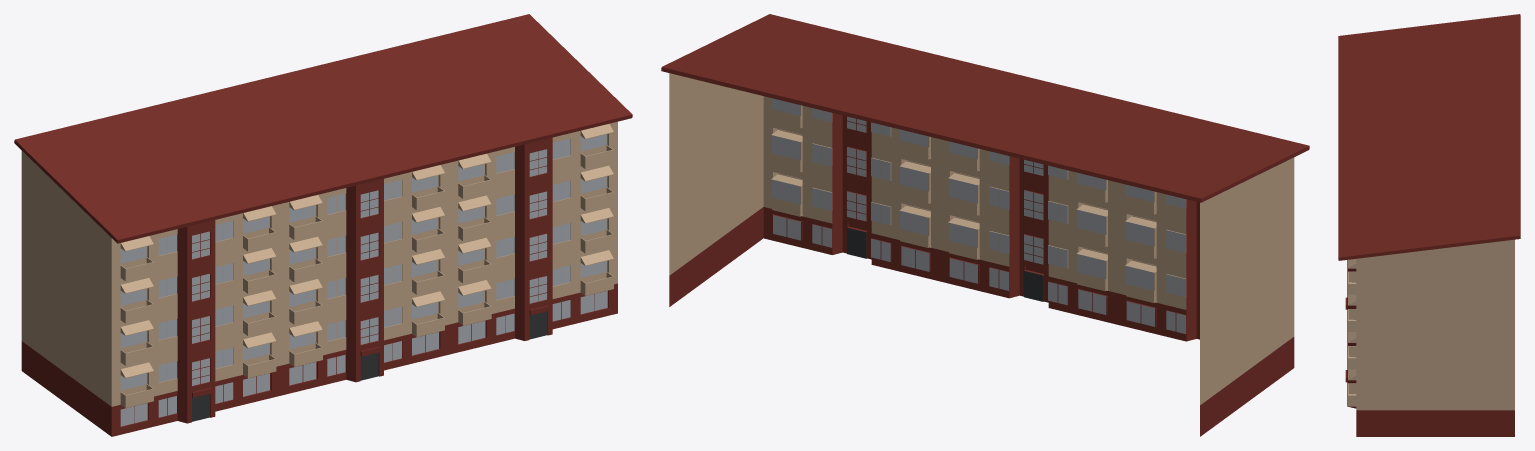
The model's file is building (1).fbx.
The picture shows the model from 3 angles, left to right: view 1: azimuth 30°, elevation 25°; view 2: azimuth 150°, elevation 25°; view 3: azimuth 270°, elevation 25°; orthographic projection. The views are drawn at different scales.
Parts seen in each view (by area): view 1: build; view 2: build; view 3: build.
Part boxes in pixels (x1=…): build: x1=14, y1=14, x2=632, y2=436; build: x1=661, y1=14, x2=1309, y2=436; build: x1=1338, y1=14, x2=1520, y2=436.
Size of the model in its own units: 7.13 by 2.48 by 3.05.
Materials: 1 (1 with a texture image).
